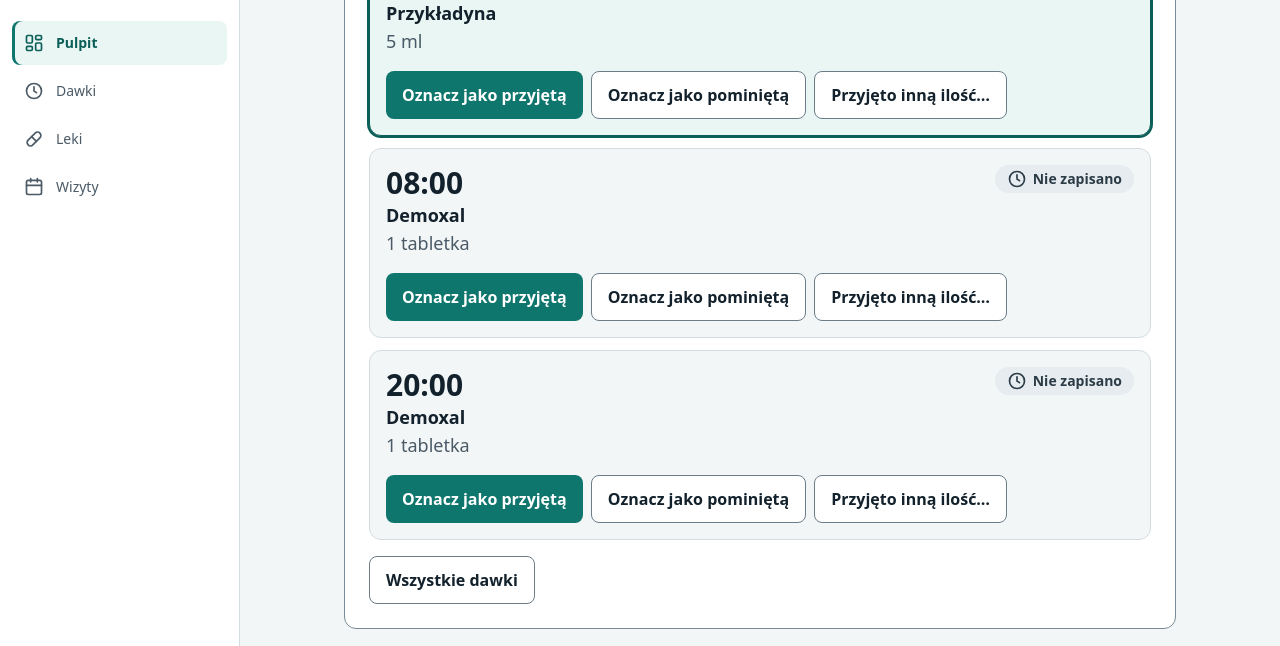
Test: dashboard: today’s doses › shows a failed write as an error, never as success, and changes nothing
The width and height of the screenshot is (1280, 646).
(page scrolled)
Click the button with aria-label "Oznacz jako przyjętą: Demoxal, 08:00" at (484, 297), box [386,273,583,321]
(page scrolled)
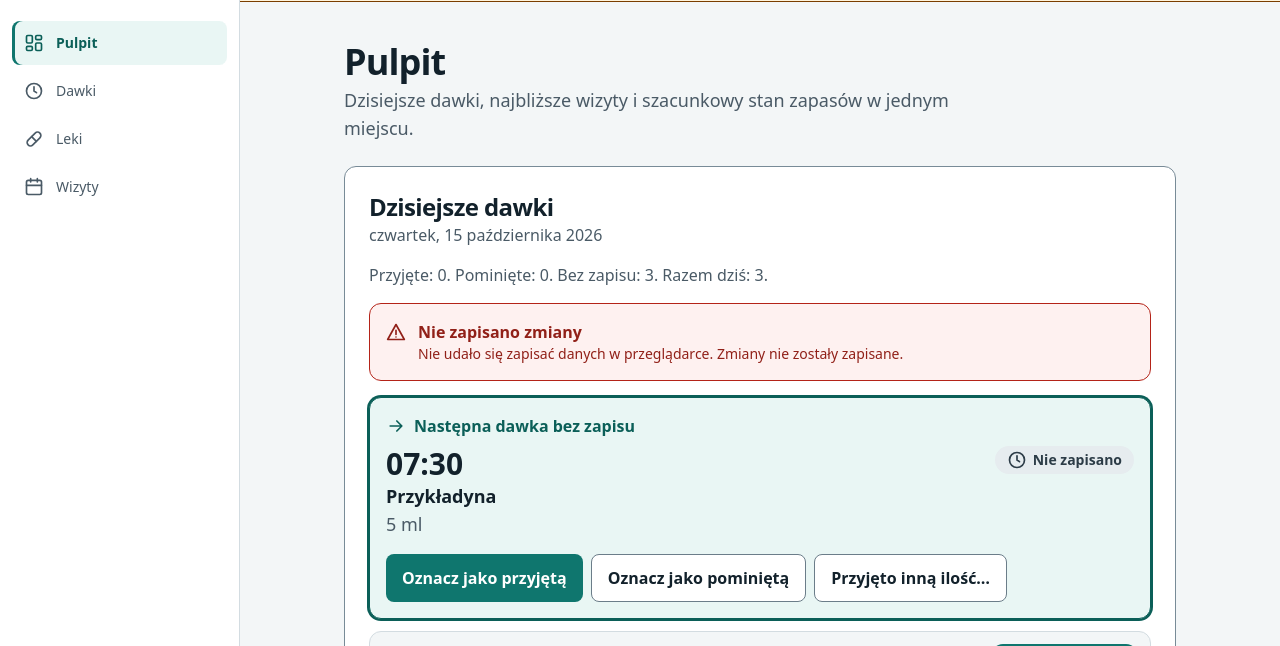
Expected: the text "Przyjęte: 0. Pominięte: 0. Bez zapisu: 3. Razem dziś: 3." is shown, [369,264,768,286]
Now the message shows "Nie zapisano zmiany", box [418,321,582,343]
